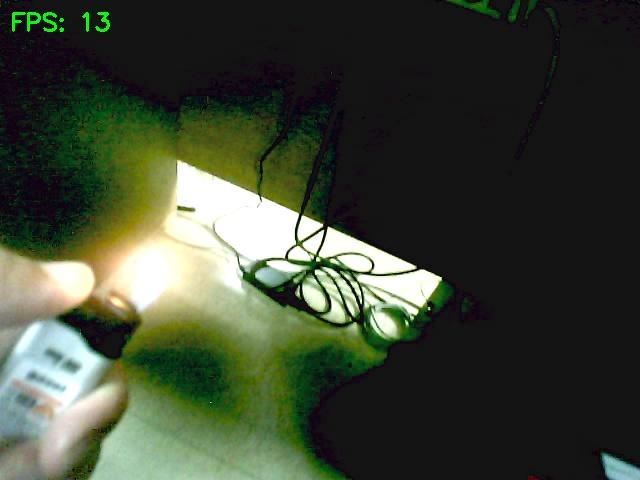fire: (129, 248, 168, 311)
smoke: (129, 245, 172, 287)
